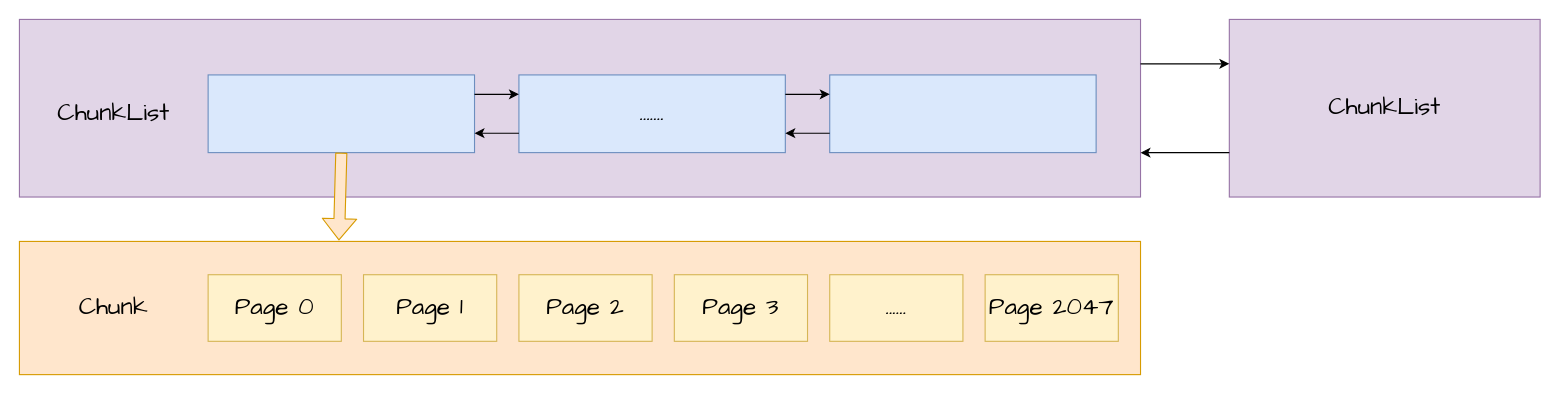
Image size: 1560x394. Some labels were removed from this diagram. Each missing label, with the box of its shape:
Chunk Head: (207, 74, 475, 153)
Chunk Tail: (829, 74, 1096, 153)
